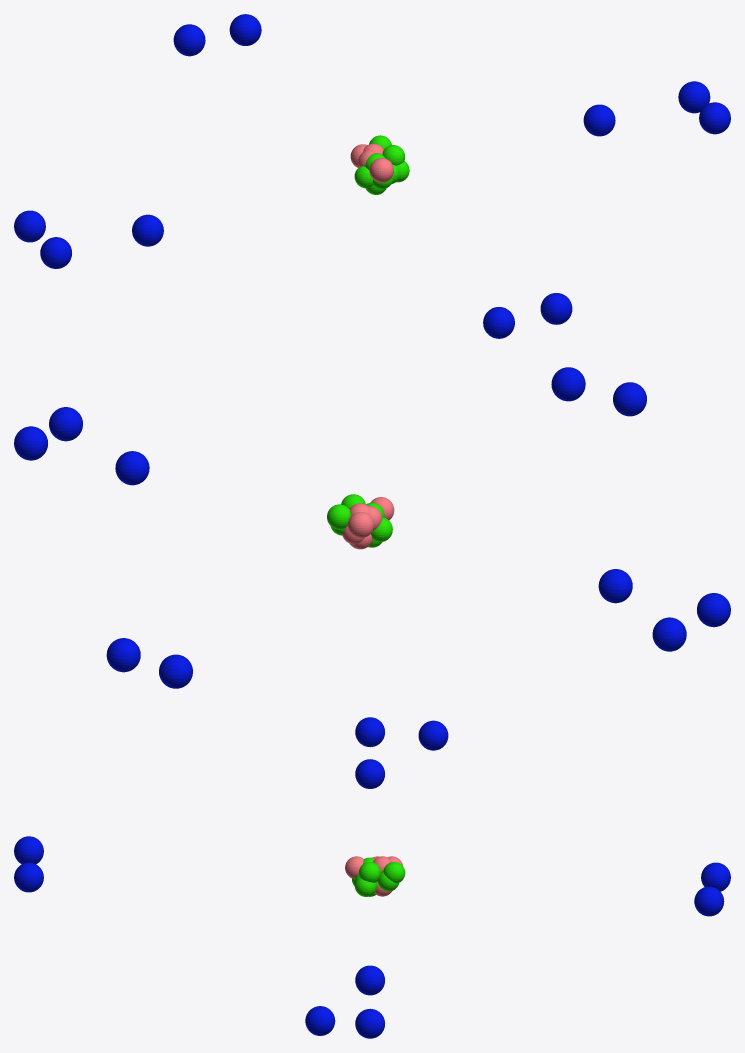
File: neon.glb
3 renders of one model, top to bottom at view 1: azimuth 30°, elevation 25°; view 2: azimuth 150°, elevation 25°; view 3: azimuth 270°, elevation 25°, orthographic. The views are drawn at different scales.
Parts seen in each view (by area): view 1: Sphere.008, Sphere.020, Sphere.025, Sphere.007, Sphere.006, Sphere.021, Sphere.011, Sphere.019, Sphere.012, Sphere.014; view 2: Sphere.006, Sphere.008, Sphere.021, Sphere.025, Sphere.007, Sphere.011, Sphere.012, Sphere.019, Sphere.014, Sphere.020, Sphere.015; view 3: Sphere.021, Sphere.020, Sphere.006, Sphere.012, Sphere.014, Sphere.025, Sphere.007, Sphere.008, Sphere.019, Sphere.011.
Boxes of the visible parts, x1,y1,x2,y2 form: Sphere.008: (540,293,572,324); Sphere.020: (229,14,261,45); Sphere.025: (699,102,730,134); Sphere.007: (132,214,163,246); Sphere.006: (583,104,615,136); Sphere.021: (14,210,45,242); Sphere.011: (173,24,205,56); Sphere.019: (483,307,514,338); Sphere.012: (40,237,71,268); Sphere.014: (678,81,710,113); Sphere.006: (115,451,149,485); Sphere.008: (551,367,585,401); Sphere.021: (652,617,686,651); Sphere.025: (49,407,82,441); Sphere.007: (598,569,632,603); Sphere.011: (159,654,192,688); Sphere.012: (697,593,730,627); Sphere.019: (613,382,646,416); Sphere.014: (14,426,47,460); Sphere.020: (106,638,140,672); Sphere.015: (347,512,374,538); Sphere.021: (418,720,448,750); Sphere.020: (694,886,724,916); Sphere.006: (355,965,384,995); Sphere.012: (355,717,384,747); Sphere.014: (355,1008,384,1038); Sphere.025: (305,1006,335,1035); Sphere.007: (355,759,384,788); Sphere.008: (14,862,43,892); Sphere.019: (14,836,43,864); Sphere.011: (701,862,730,891).
Bounding box in the file's own units: 3.41 × 0.2134 × 3.39.
